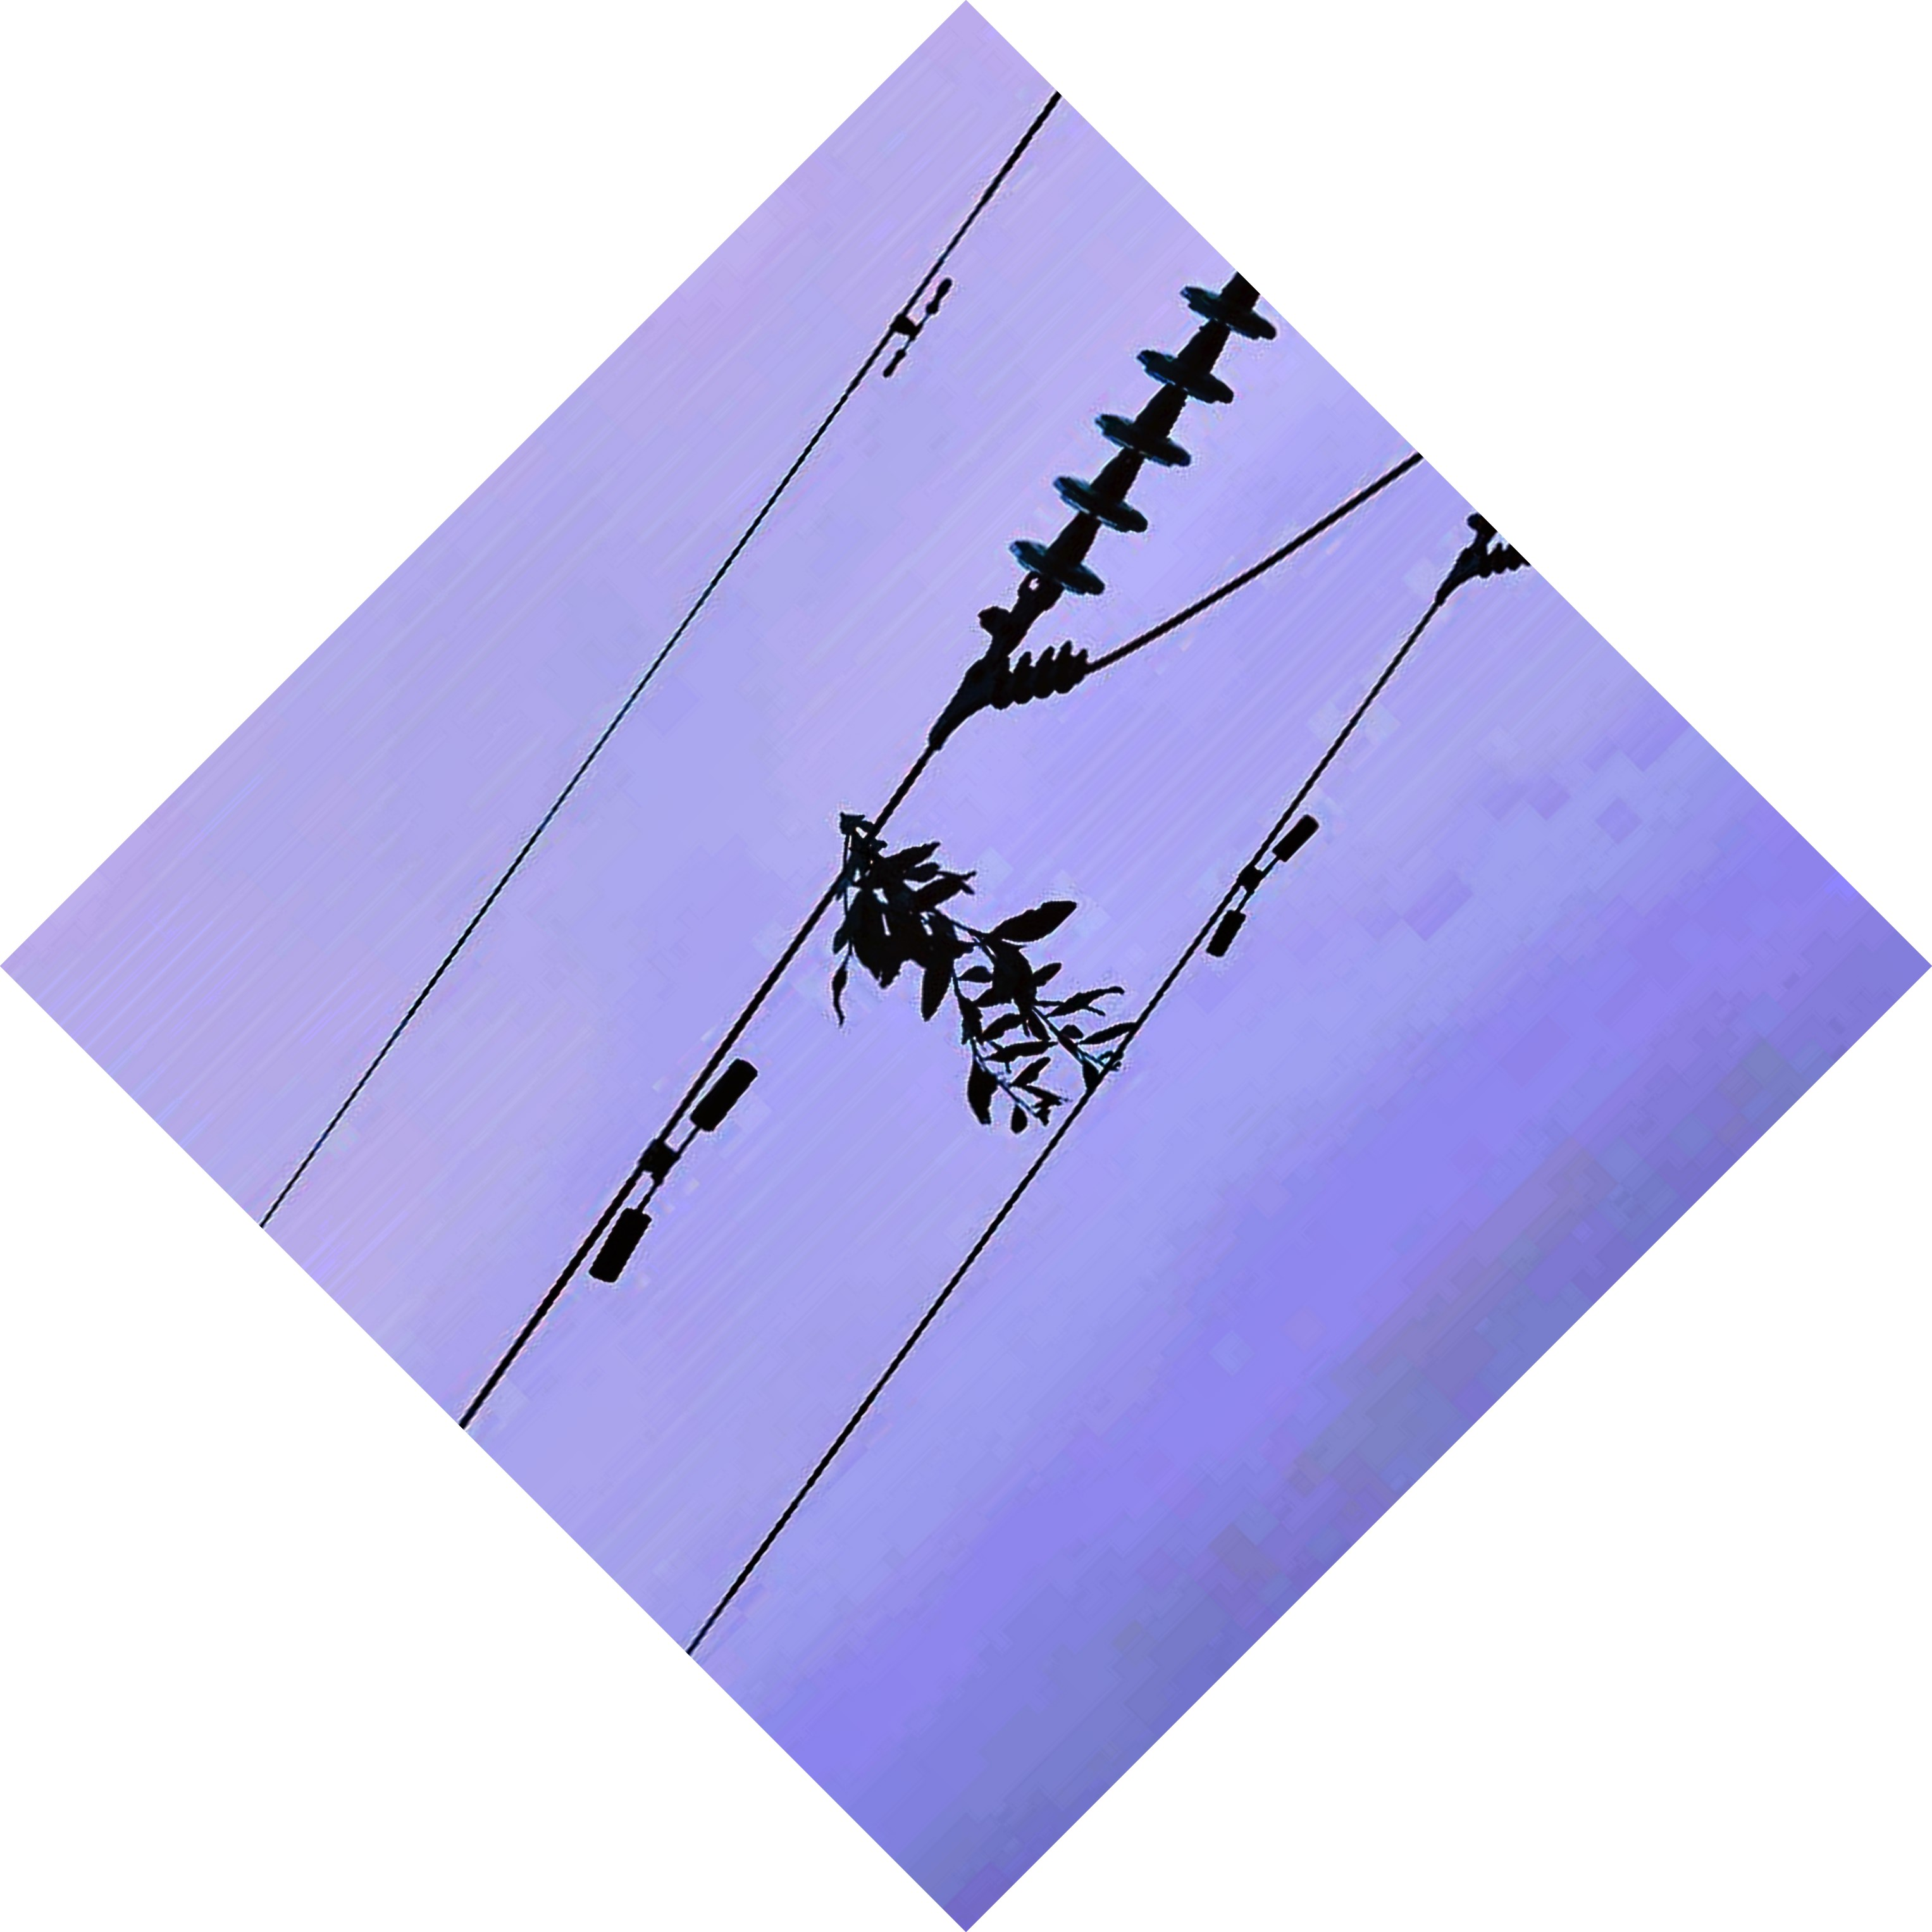wire foreign body: (817, 801, 1148, 1143)
